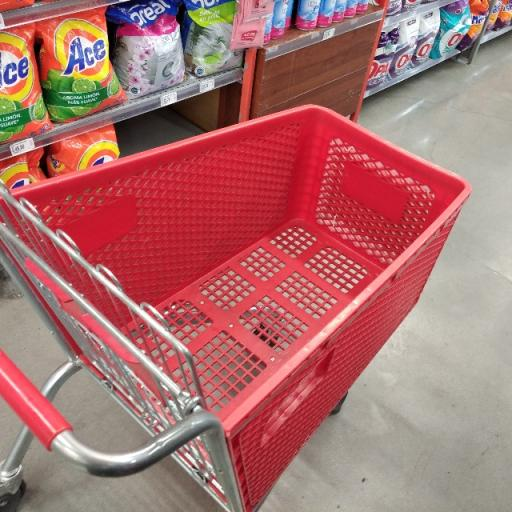shopping_cart: (1, 102, 473, 512)
